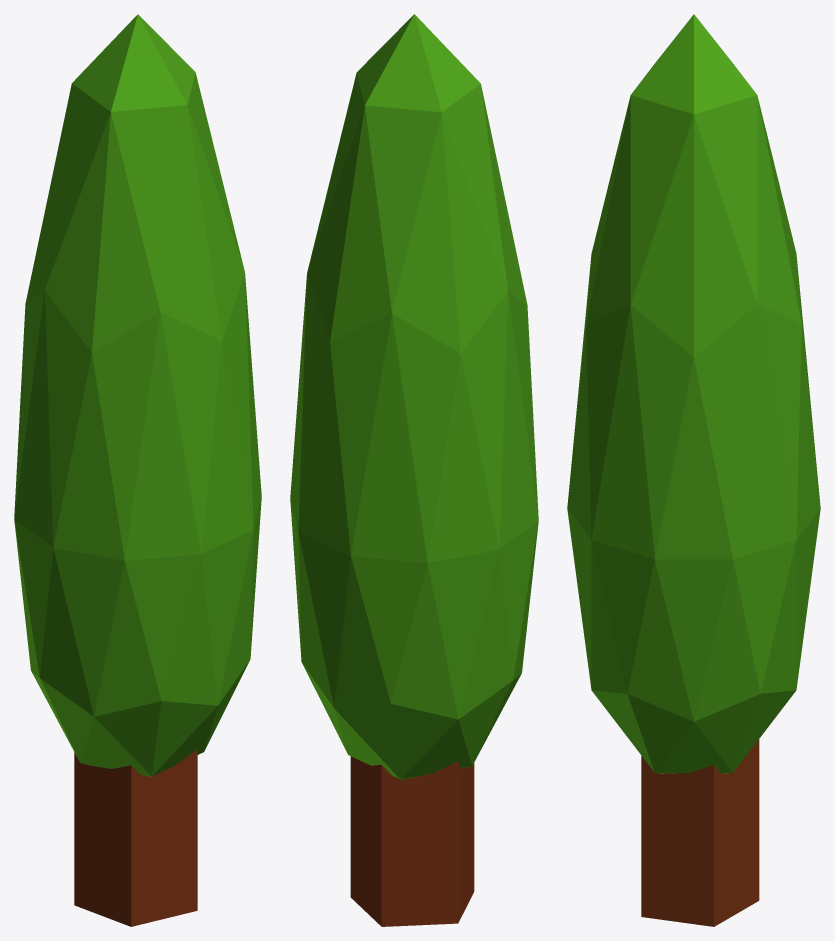
File: tree7.gltf
3 views of the same model, side by side, from view 1: azimuth 30°, elevation 25°; view 2: azimuth 150°, elevation 25°; view 3: azimuth 270°, elevation 25° (orthographic).
Parts seen in each view (by area): view 1: Icosphere.027; view 2: Icosphere.027; view 3: Icosphere.027.
Boxes of the visible parts, bbox=[...] form: Icosphere.027: bbox=[14, 14, 261, 926]; Icosphere.027: bbox=[290, 14, 538, 926]; Icosphere.027: bbox=[567, 14, 820, 926].
Bounding box in the file's own units: 0.7636 × 3.1 × 0.8029.
